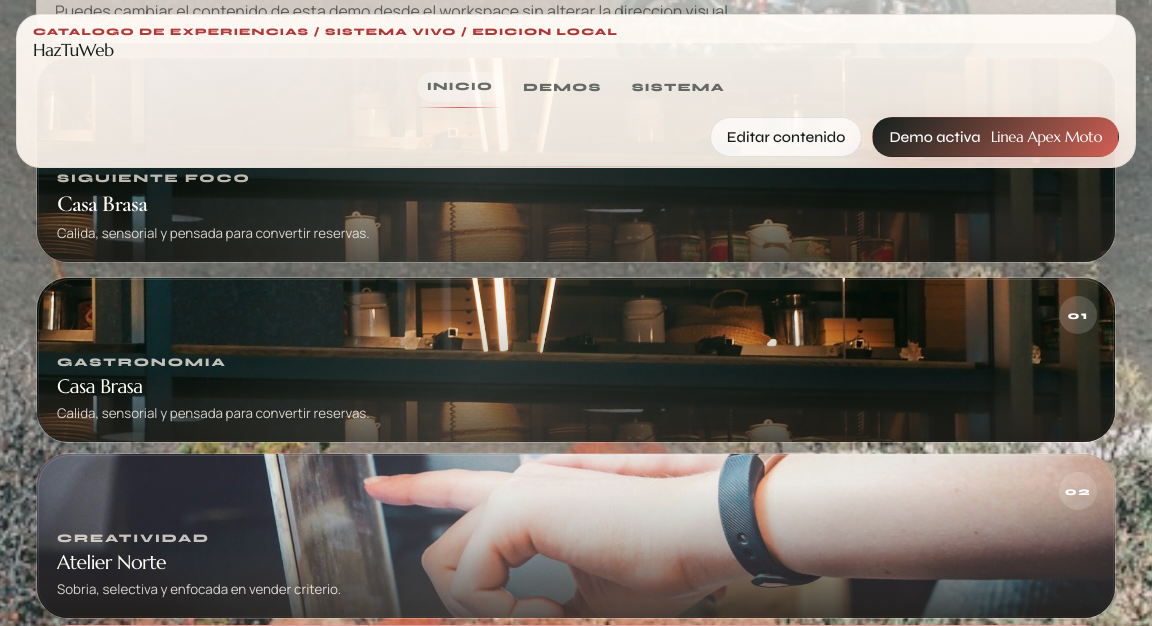
Scenario: CatalogPage › activates a preview card when it is clicked
This screenshot has width=1152, height=626.
(page scrolled)
Click the button "Casa Brasa": coordinates (576, 360) [36,277,1116,443]
(page scrolled)
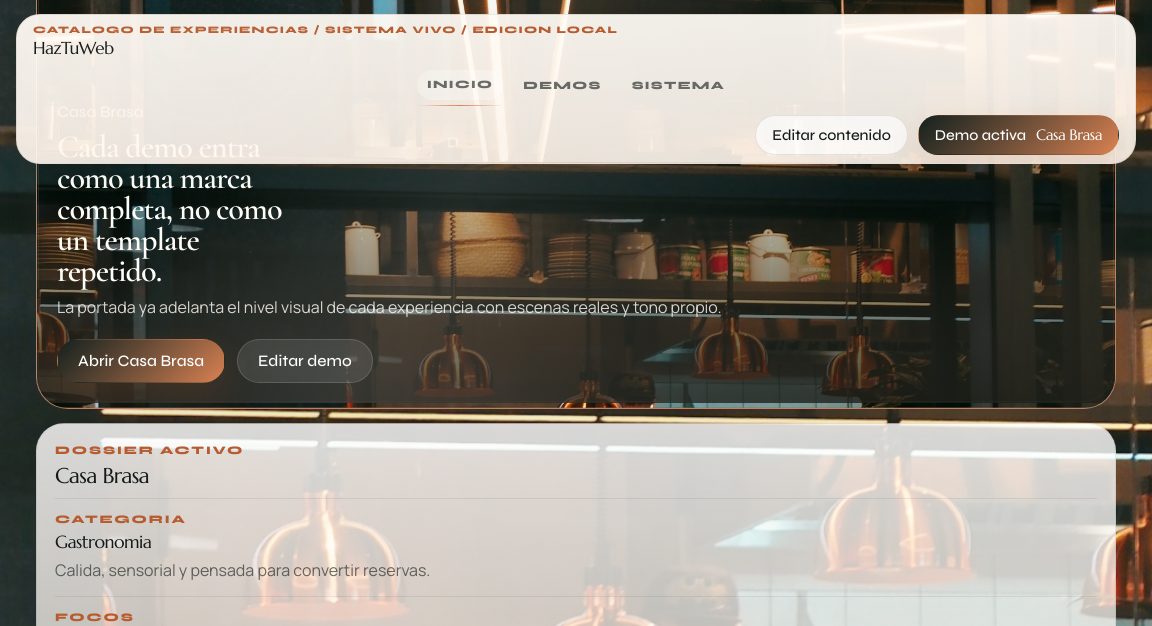
Now the link "Abrir Casa Brasa" is shown, box [57,339,225,383]
